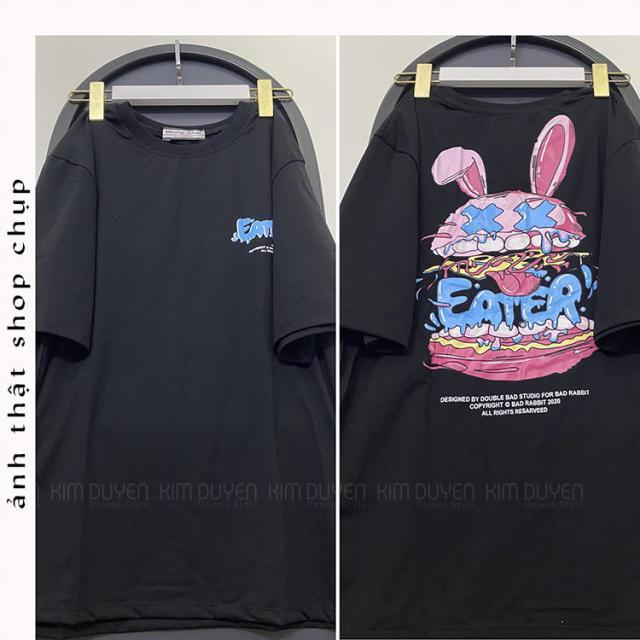shirt: (343, 81, 640, 638), (36, 98, 332, 622)
